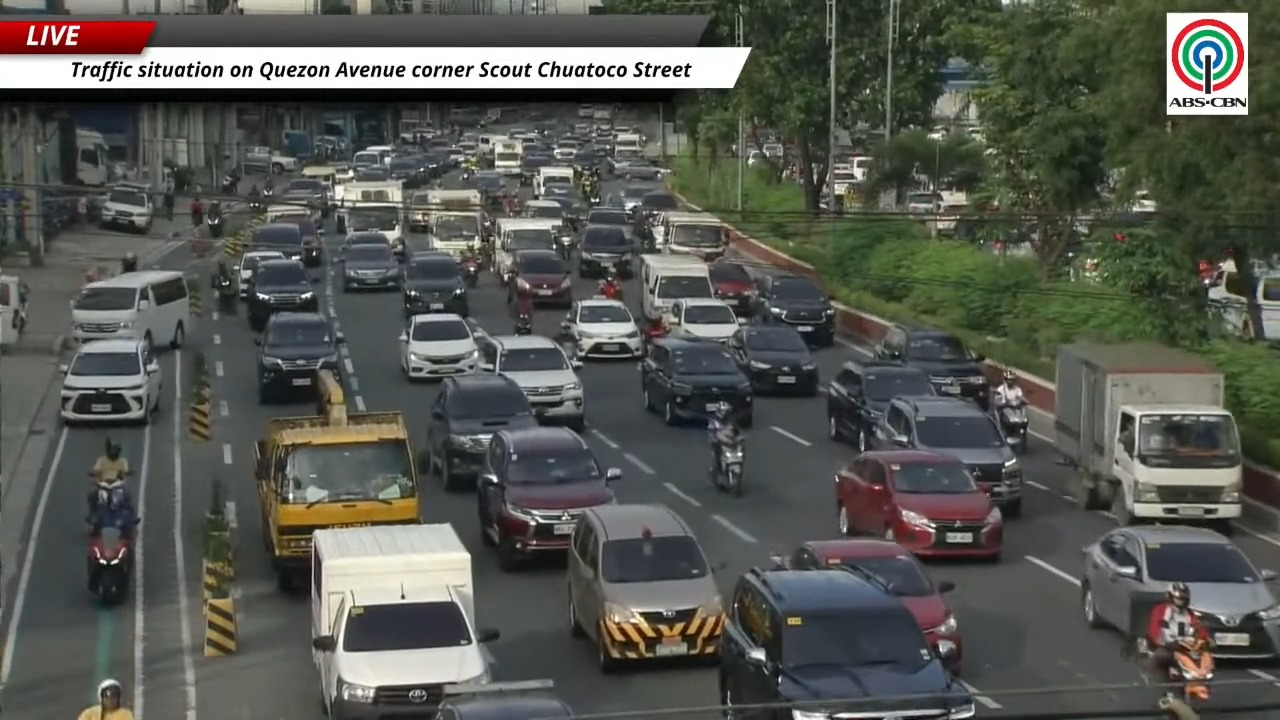car: (719, 568, 975, 719), (1080, 525, 1279, 658), (567, 505, 724, 671), (783, 538, 962, 674), (477, 427, 621, 570), (835, 450, 1002, 559), (873, 396, 1023, 516), (419, 373, 537, 491), (476, 335, 584, 430), (640, 338, 753, 426), (827, 361, 936, 452), (874, 324, 989, 407), (60, 339, 161, 422), (256, 312, 344, 403), (727, 325, 819, 395), (753, 274, 834, 346), (432, 681, 574, 719), (399, 313, 478, 379), (247, 259, 317, 331), (561, 298, 643, 357), (401, 251, 468, 316), (508, 250, 572, 307), (338, 205, 404, 255), (665, 298, 739, 342), (578, 220, 634, 277), (342, 245, 401, 291), (99, 185, 154, 233), (708, 260, 756, 314), (276, 215, 322, 267), (236, 250, 284, 298), (249, 222, 303, 260), (282, 177, 329, 214), (470, 171, 508, 206), (613, 158, 670, 181), (388, 155, 427, 188), (407, 191, 435, 231), (606, 146, 642, 176), (620, 185, 657, 214), (341, 231, 390, 252), (585, 207, 631, 229), (635, 190, 679, 213), (522, 200, 565, 219), (553, 139, 580, 161), (355, 166, 389, 181), (599, 193, 625, 211)
motorcycle: (88, 512, 139, 606), (1158, 638, 1215, 717), (86, 472, 131, 521), (714, 433, 744, 496), (996, 400, 1028, 453), (212, 273, 237, 313), (460, 252, 481, 287), (597, 280, 622, 299), (206, 213, 223, 238), (513, 313, 532, 335), (556, 235, 572, 261), (479, 237, 493, 266), (221, 173, 239, 194), (249, 195, 263, 212), (589, 190, 601, 206), (461, 167, 474, 181), (262, 185, 273, 201)
truck: (310, 524, 498, 719), (254, 370, 419, 591), (1054, 342, 1242, 531), (336, 181, 404, 252), (425, 189, 483, 257), (241, 146, 299, 174), (493, 139, 523, 177)
